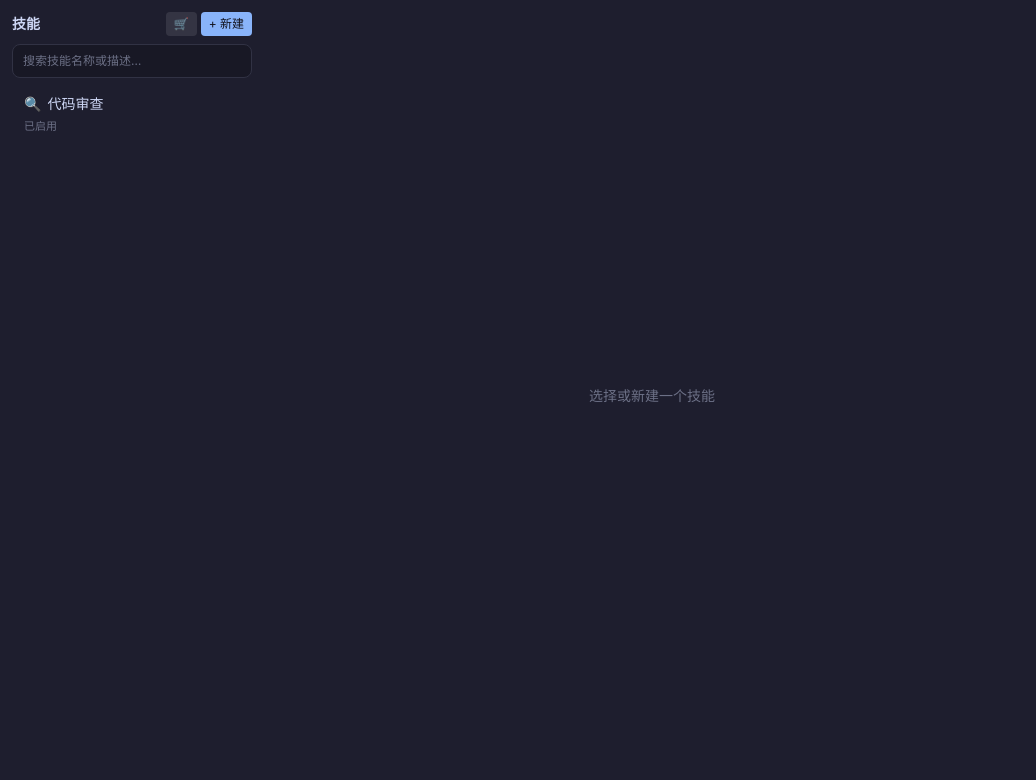
Scenario: 描述质量上屏 › 描述合格且没有相似项 ⇒ 显示未发现问题
Click the text "代码审查" at (76, 104), box [48,94,104,114]
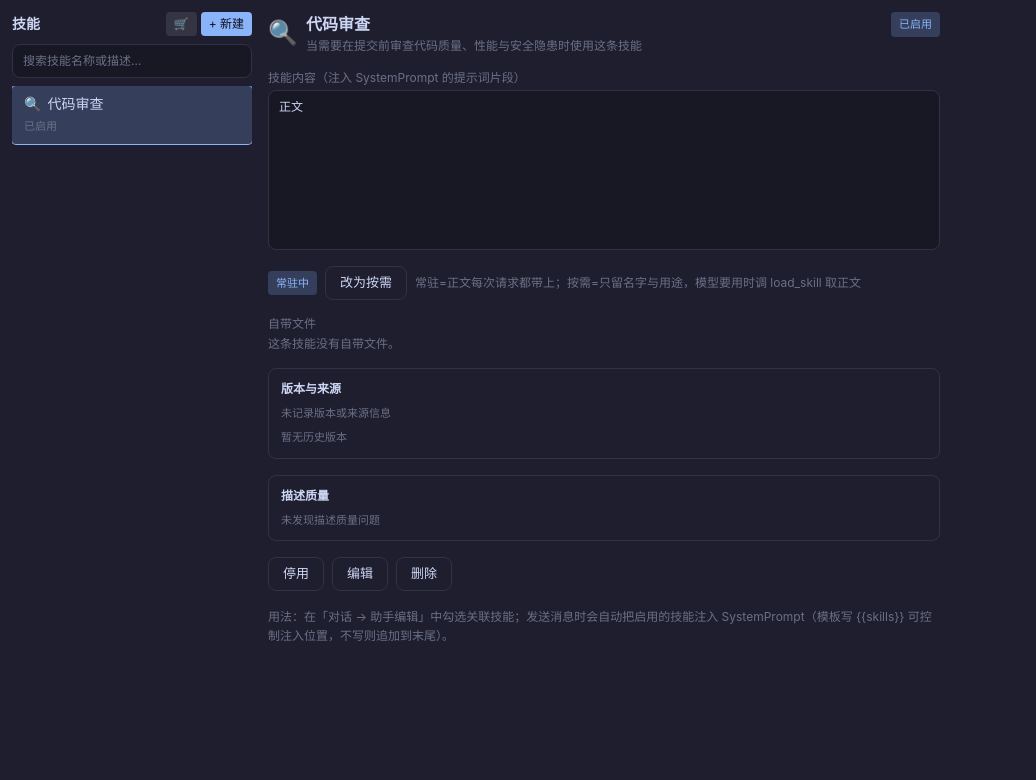
Result: the element with test id "skill-quality-panel" is shown at [268,474,940,541]
Result: the text "未发现描述质量问题" is shown at [281,512,380,526]
